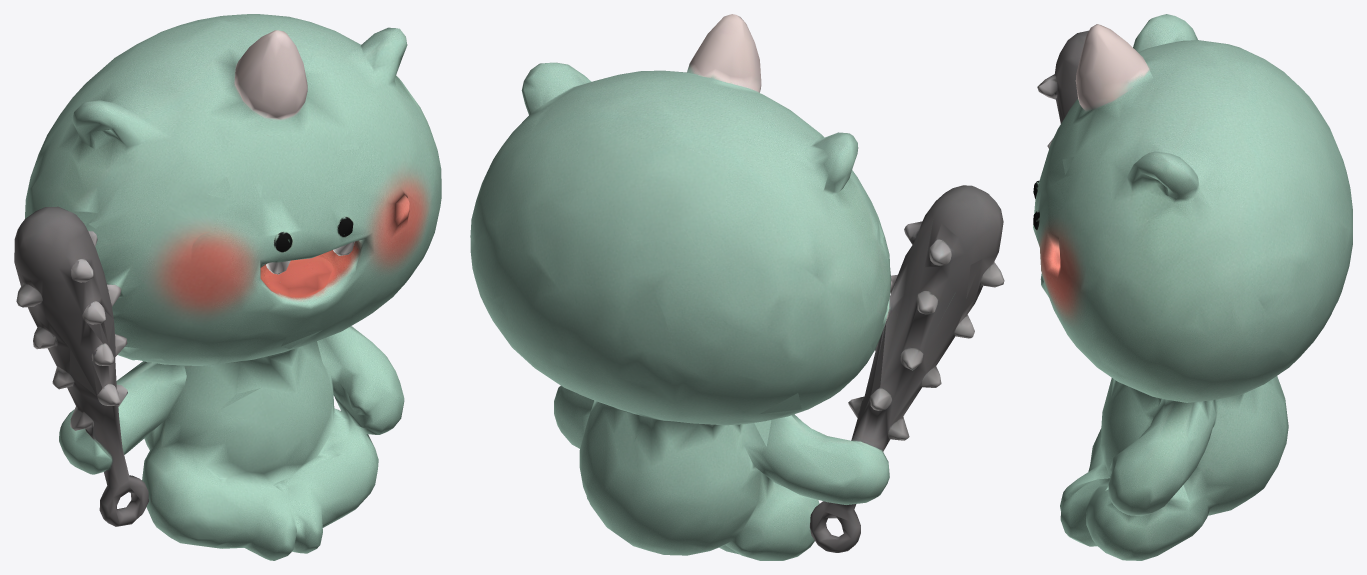
The model's file is kkebi-fly-lowpoly-ani12x.glb.
3 renders of one model, left to right at view 1: azimuth 30°, elevation 25°; view 2: azimuth 150°, elevation 25°; view 3: azimuth 270°, elevation 25°, orthographic. The views are drawn at different scales.
Parts seen in each view (by area): view 1: mesh_node; view 2: mesh_node; view 3: mesh_node.
Boxes of the visible parts, bbox=[...] form: mesh_node: bbox=[14, 14, 441, 560]; mesh_node: bbox=[470, 14, 1004, 560]; mesh_node: bbox=[1033, 14, 1352, 560].
Bounding box in the file's own units: 2.77 × 3.02 × 1.71.
1 material, 1 textured.
